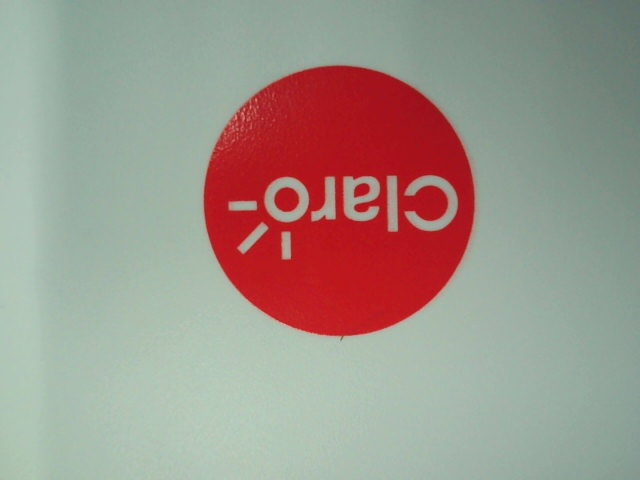BC_ClaorRed: (196, 63, 484, 338)
